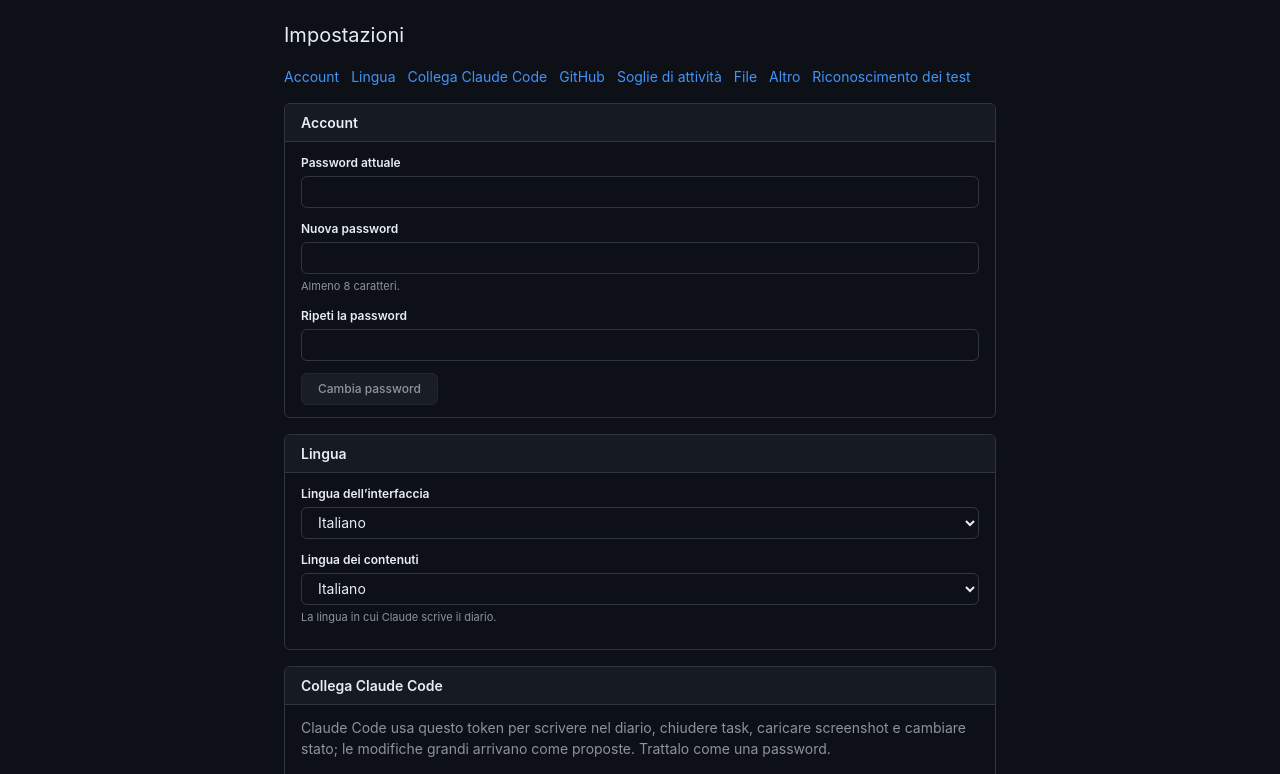
Test: verifyB2 criterion 2: change password › the right password reports success
The image size is (1280, 774).
Type "giusta123" into the password field labelled "Password attuale" at coordinates (640, 192), box [301, 176, 979, 208]
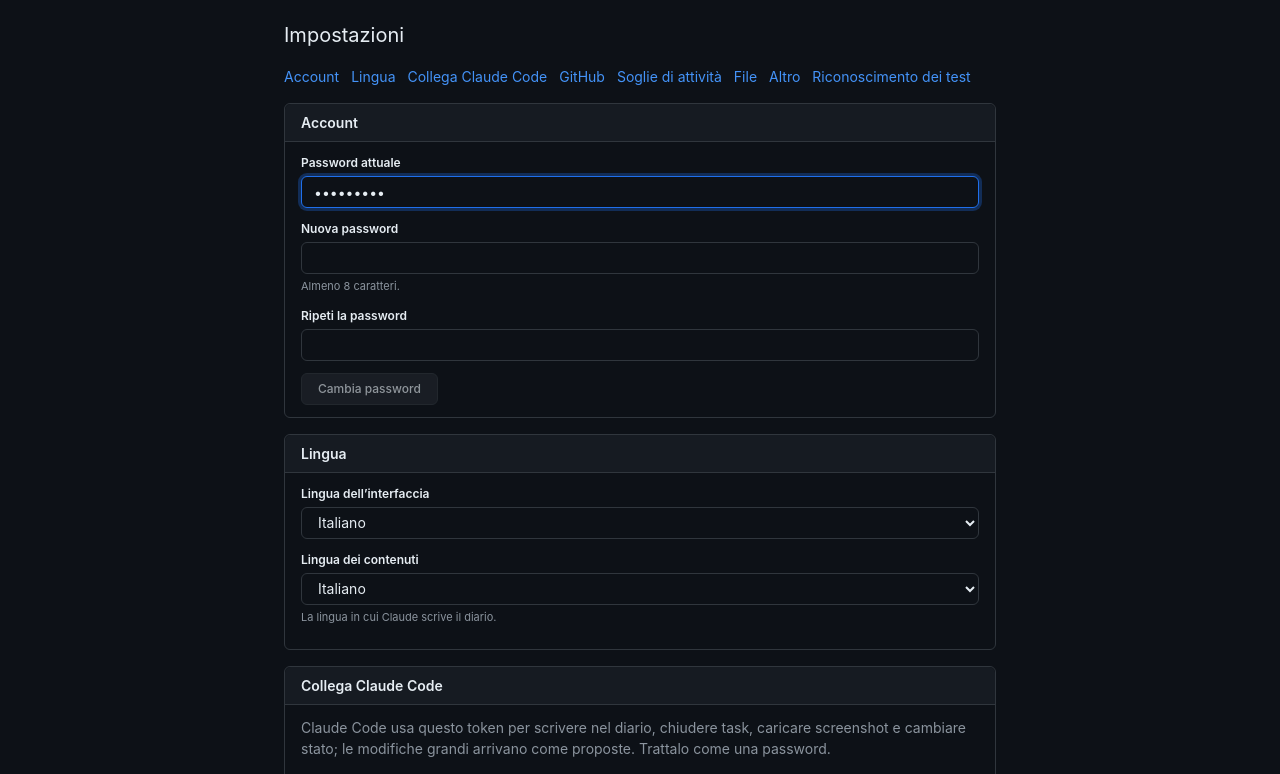
Type "nuovapassword1" into the password field labelled "Nuova password" at coordinates (640, 258), box [301, 242, 979, 274]
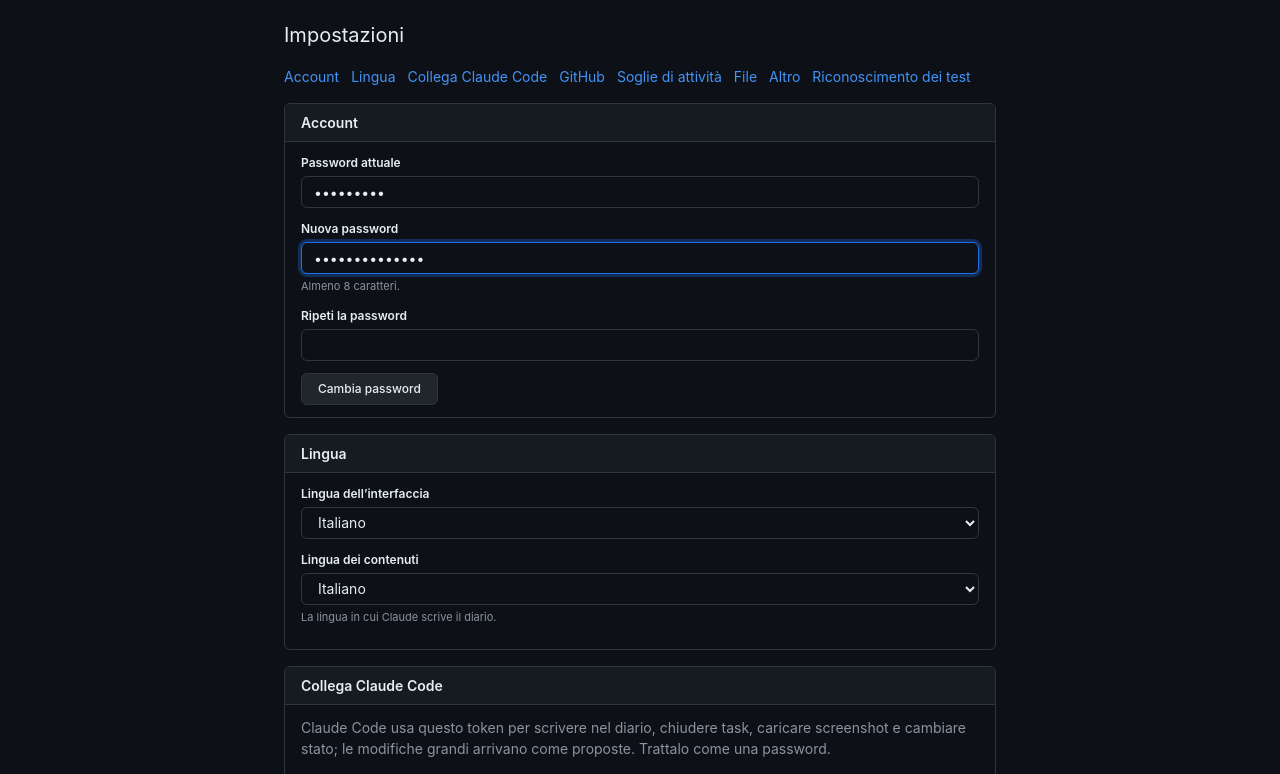
Type "nuovapassword1" into the password field labelled "Ripeti la password" at coordinates (640, 344), box [301, 328, 979, 360]
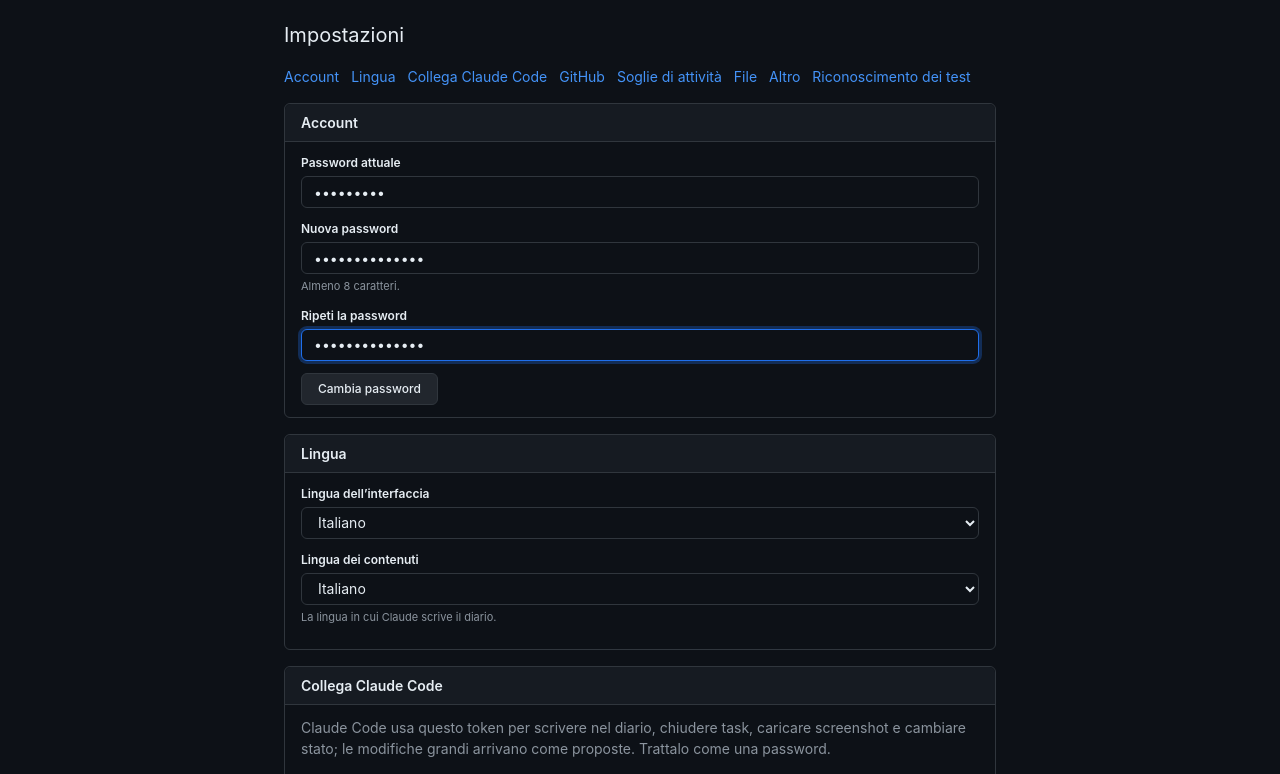
Click the button "Cambia password" at coordinates (369, 388), box [301, 372, 438, 404]
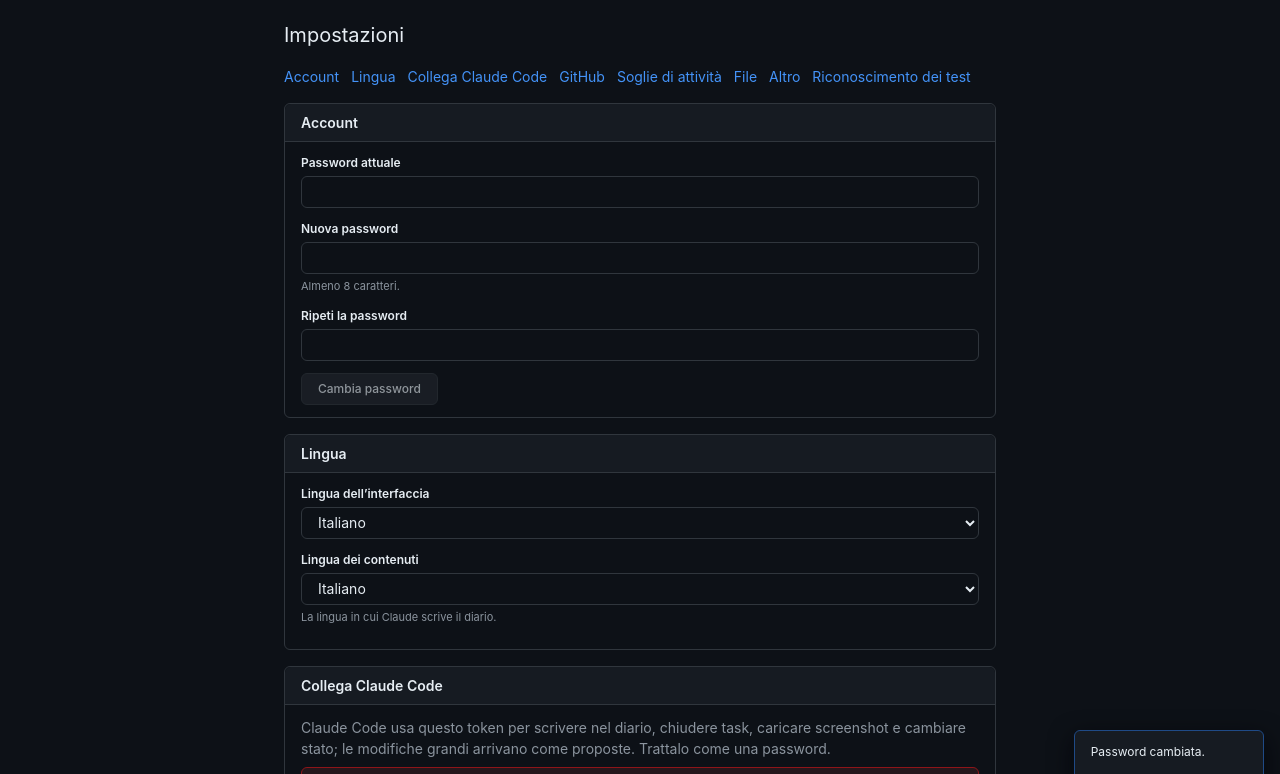
expect the text "Password cambiata." is shown: met, box [1091, 743, 1205, 761]
